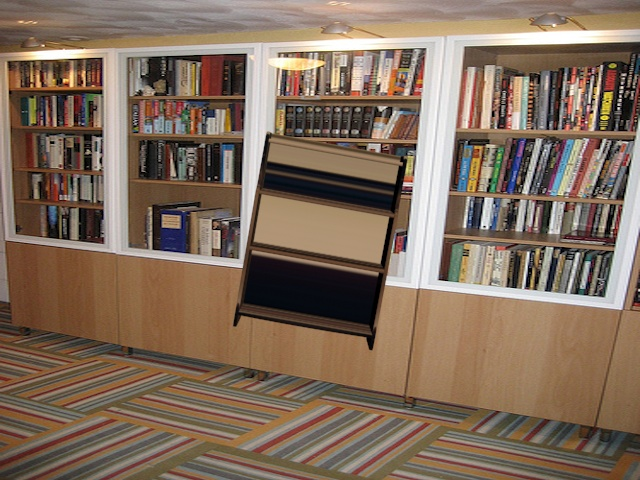bookcase: (224, 128, 417, 352)
